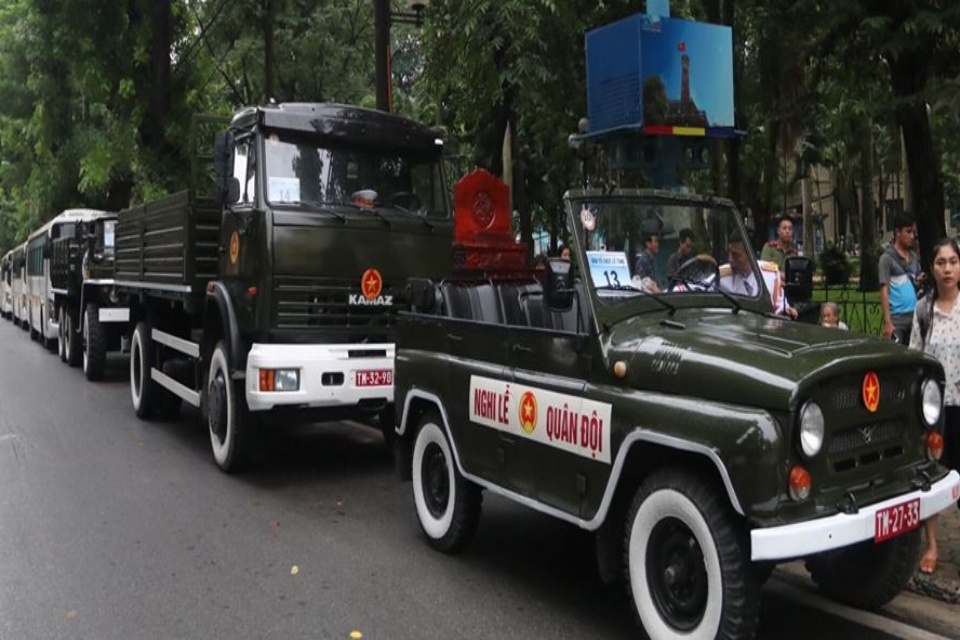plate: (870, 495, 925, 545), (354, 362, 394, 390)
